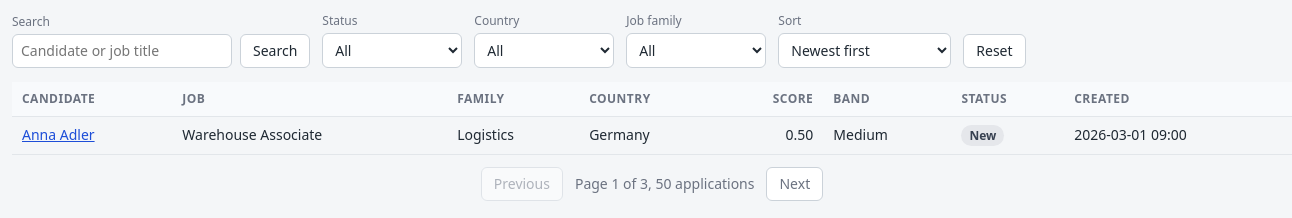
Scenario: keeps the pager on an empty page past the end
The width and height of the screenshot is (1292, 218).
Expected: the button "Anna Adler" is shown, [22,125,95,145]
Click the button "Next": x=795, y=184 [766,167,823,202]
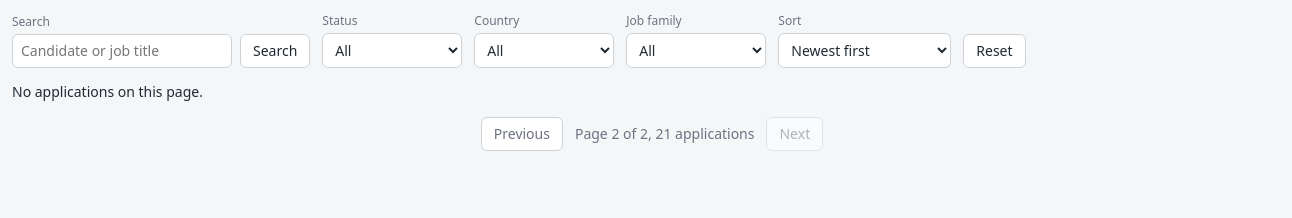
Expected: the text "No applications on this page." is shown, [12,82,203,101]
Expected: the button "Previous" is enabled, [481,117,563,151]
